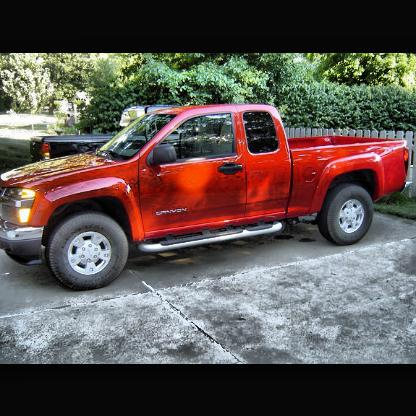GMC Canyon Extended Cab 2012: (2, 106, 410, 292)
